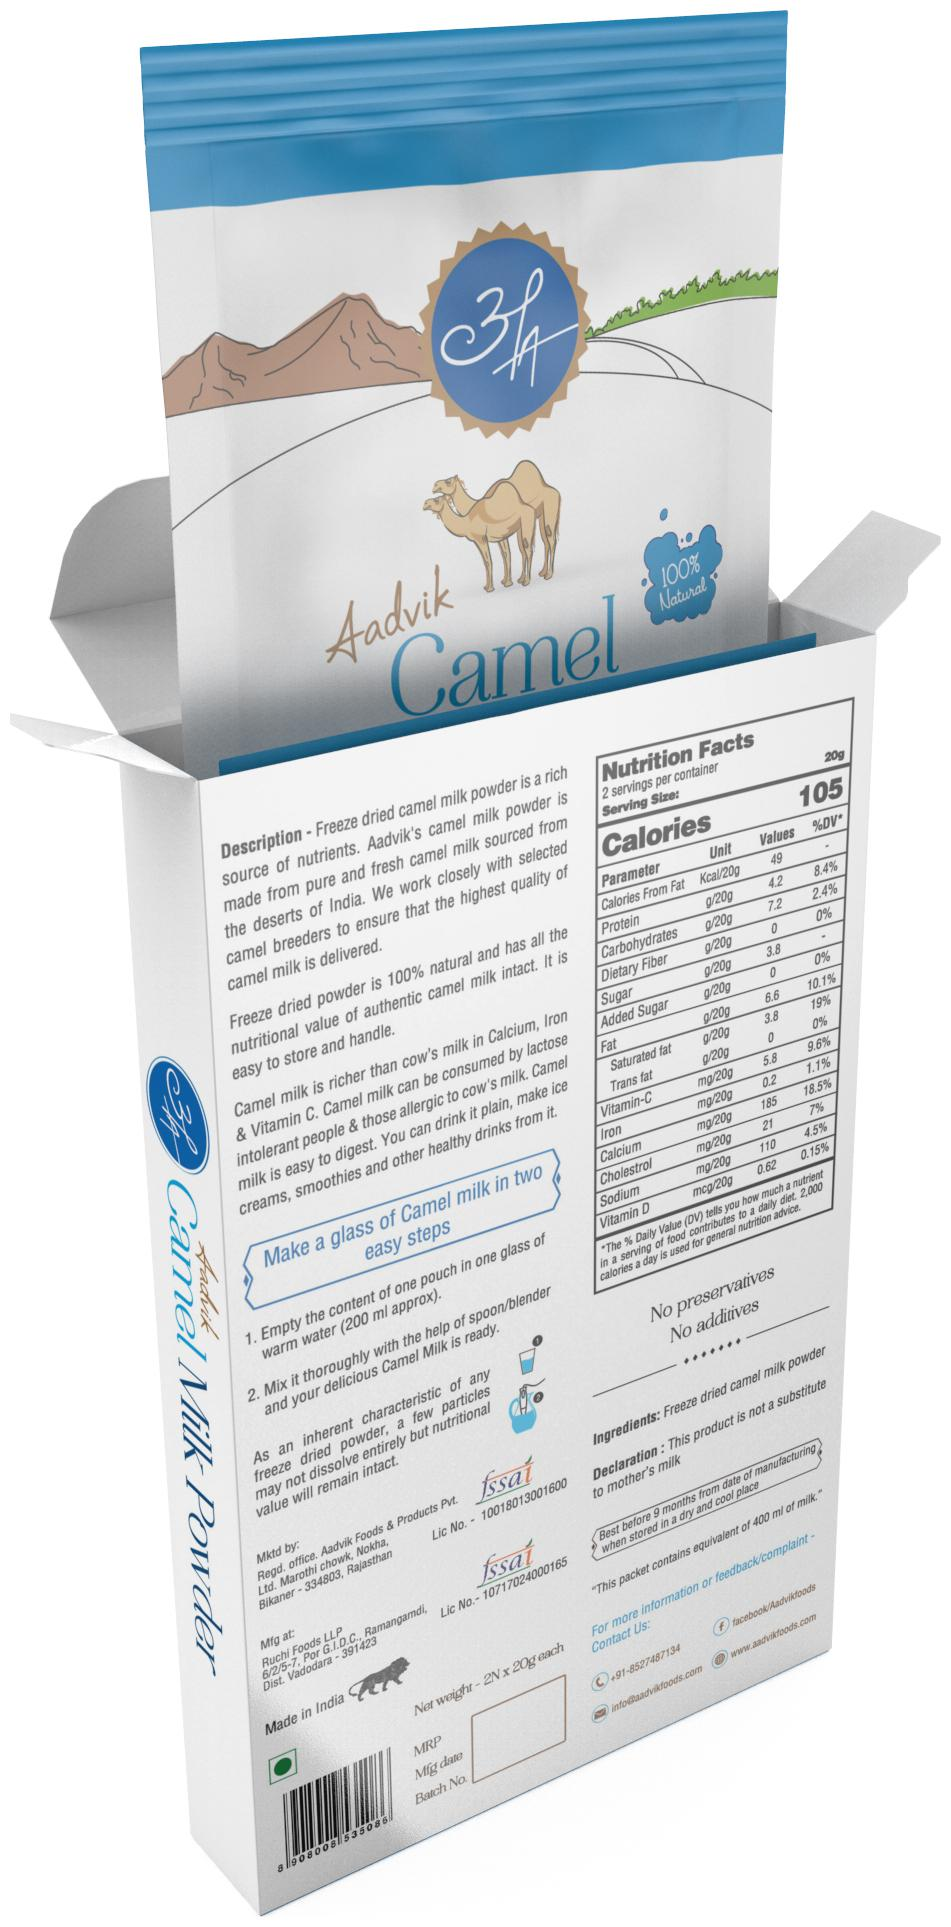fssai: (475, 1537, 538, 1589), (475, 1454, 534, 1501)
